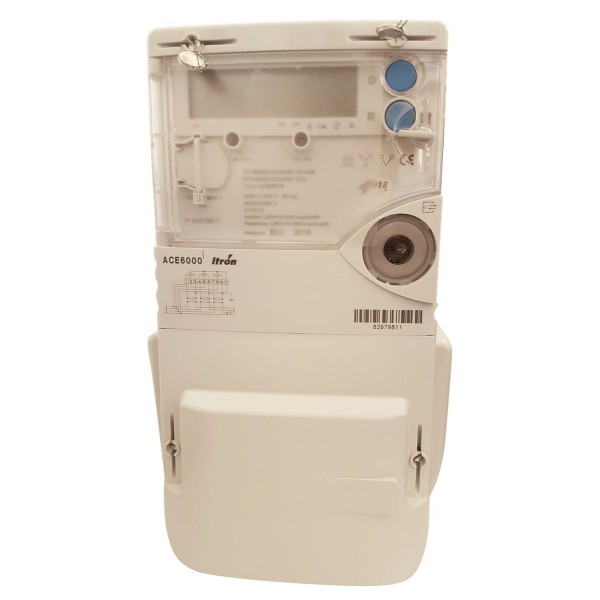counter: (144, 13, 452, 590)
counter_screen: (183, 62, 363, 122)
